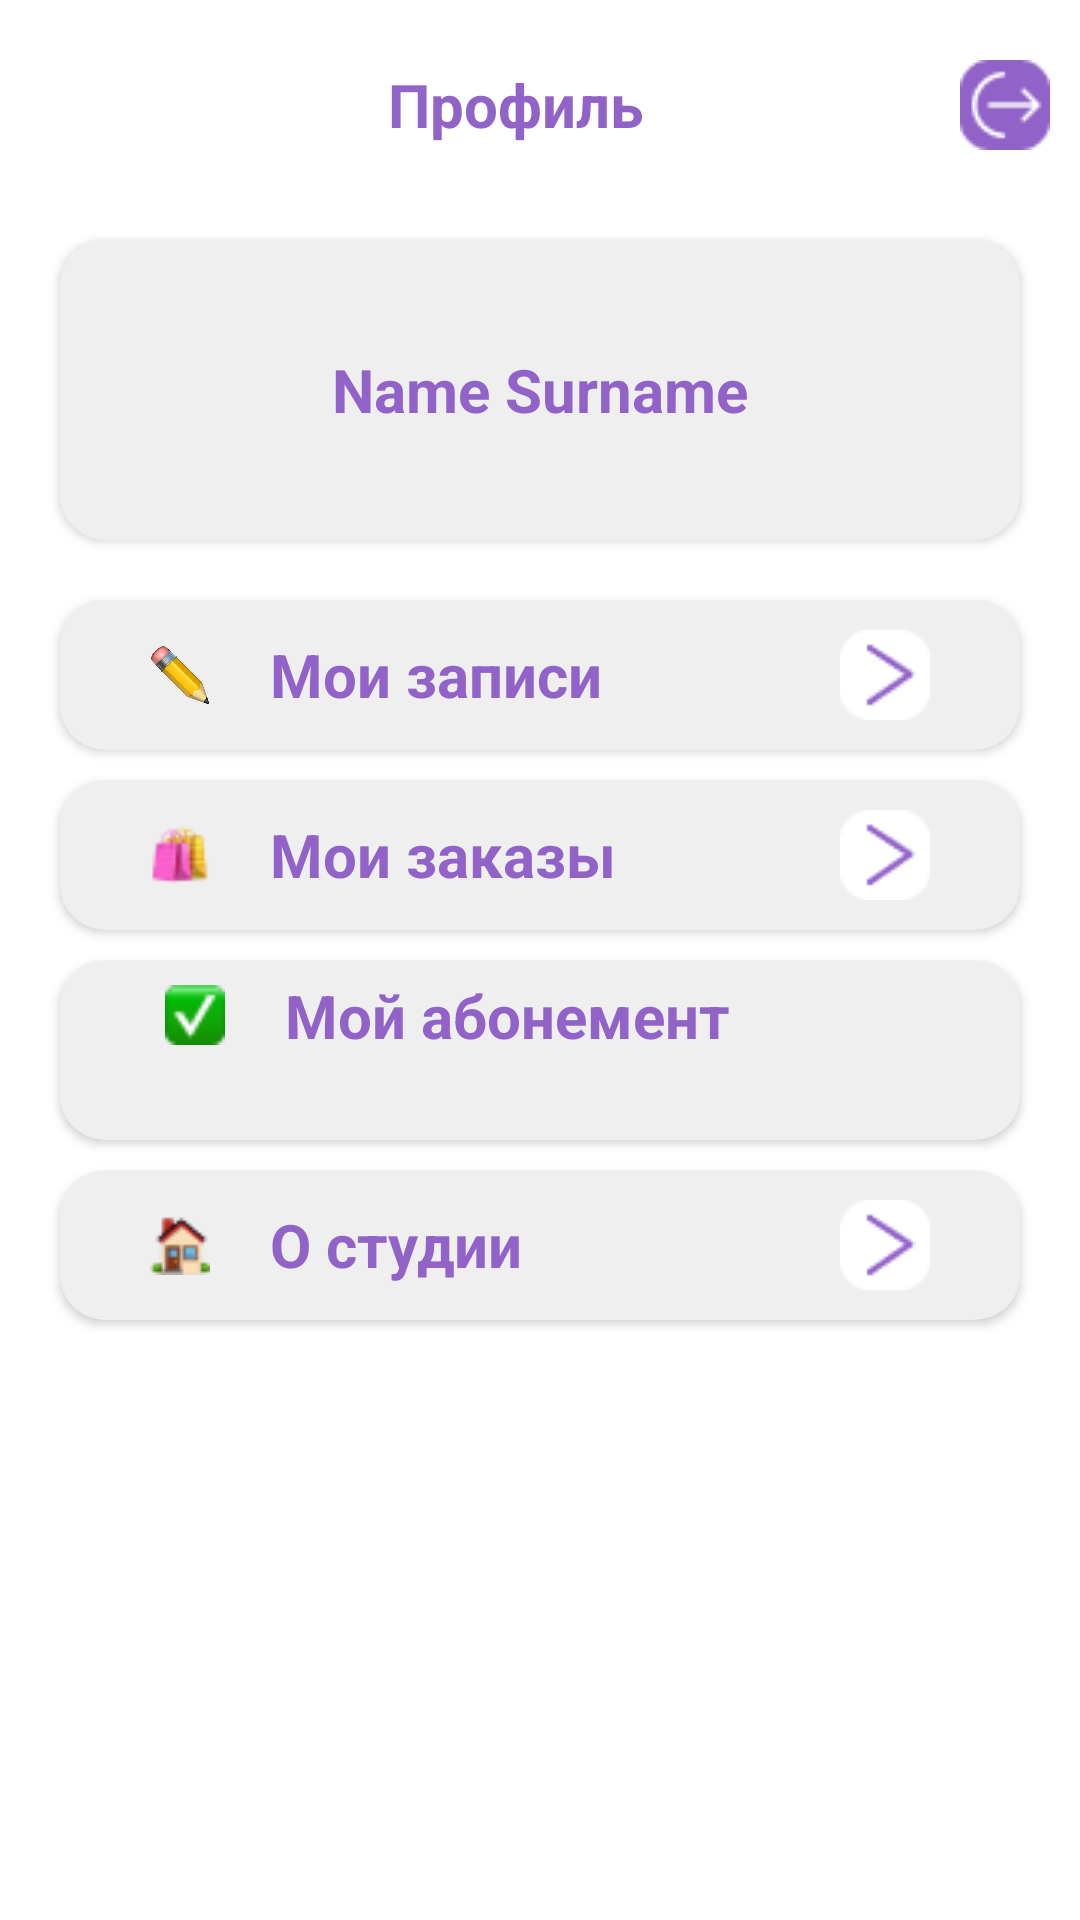

Named icons in this screenshot (1080px×1920px) and their centers, (x=x, y=y):
exit: (x=1005, y=105)
house: (x=180, y=1246)
more: (x=885, y=675), (x=885, y=855), (x=885, y=1245)
pencil: (x=180, y=675)
shop: (x=180, y=854)
tick: (x=195, y=1015)
